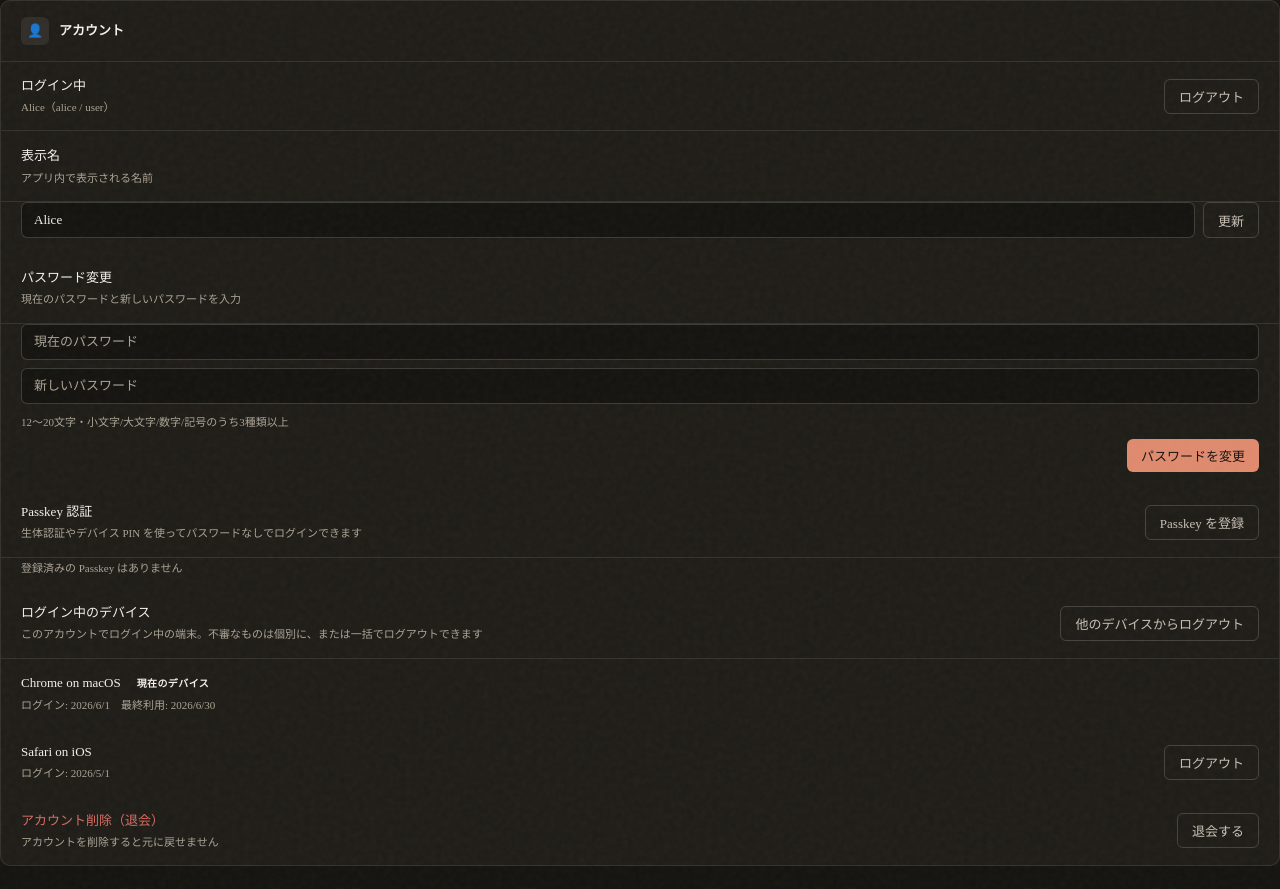
Test: AccountSection — ログイン中のデバイス（#84） › 「他のデバイスからログアウト」は確認後に revokeOtherSessions を呼び件数を表示
This screenshot has width=1280, height=889.
Expected: the text "Safari on iOS" is shown, [21,744,92,759]
What coordinates should you click on to do the following:
click the button "他のデバイスからログアウト"
I would click on:
 (1160, 624)
Its box is [1060,606,1259,641].
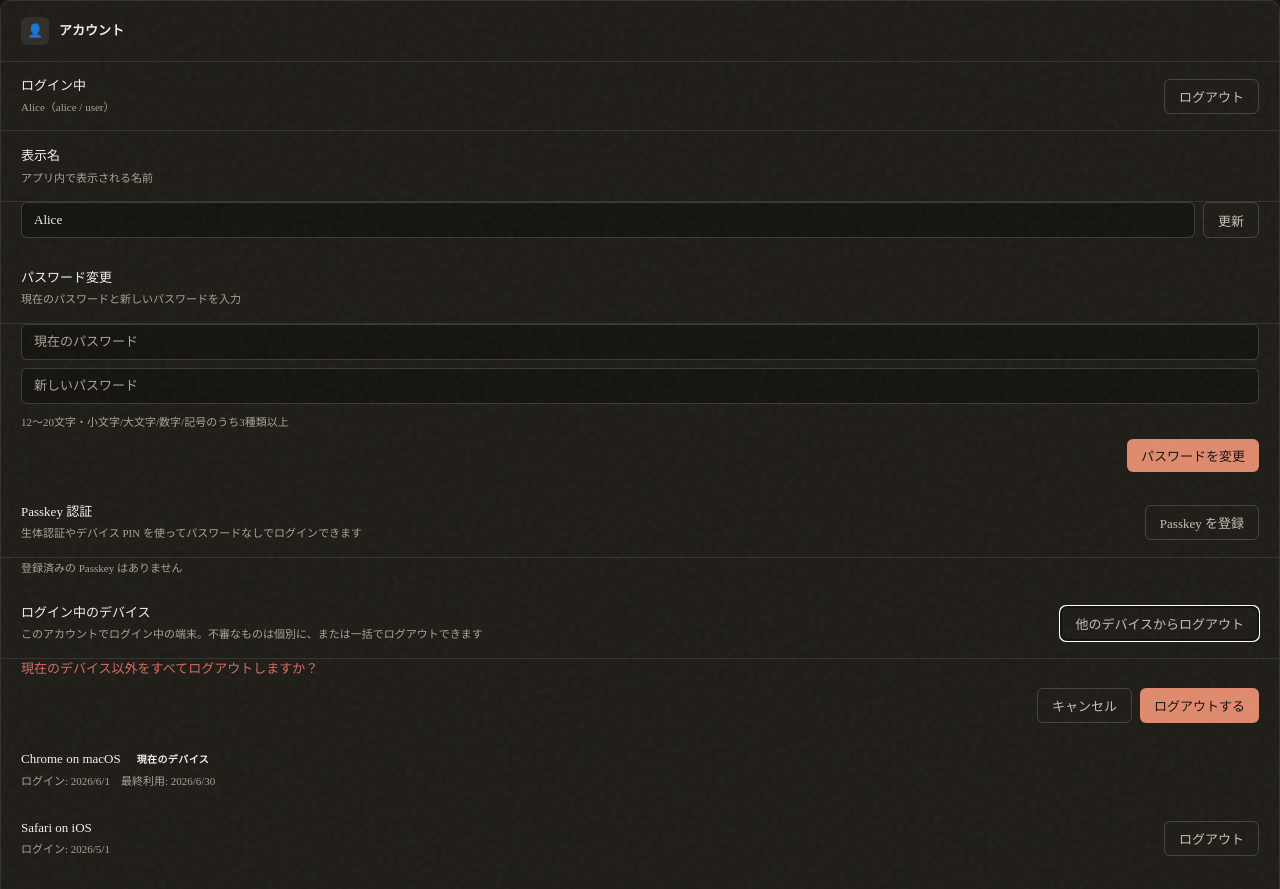
What coordinates should you click on to do the following:
click the button with aria-label "他のデバイスからログアウトを実行"
I would click on:
 (1200, 705)
Its box is [1140,688,1259,722].
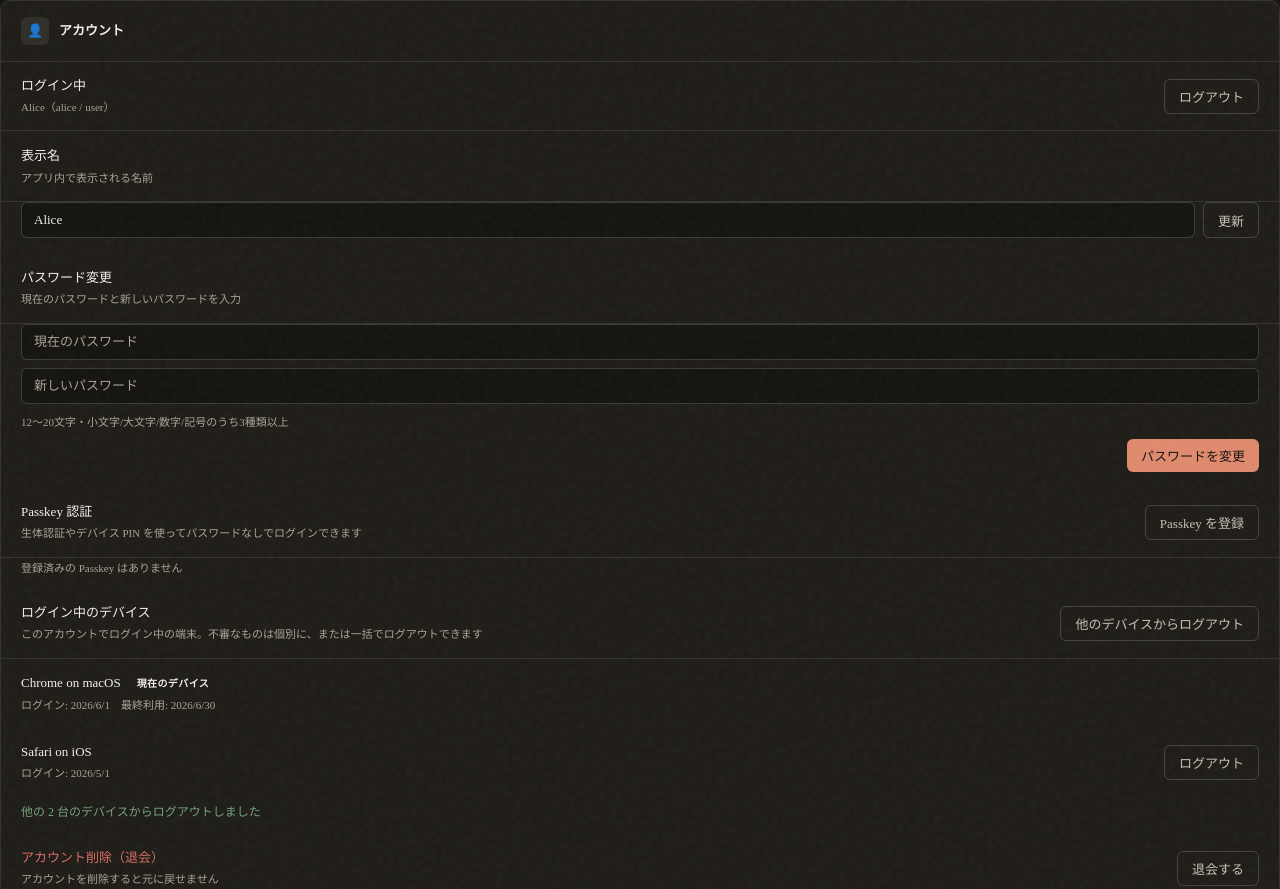
Expected: the text "他の 2 台のデバイスからログアウトしました" is shown, [21,805,261,819]
